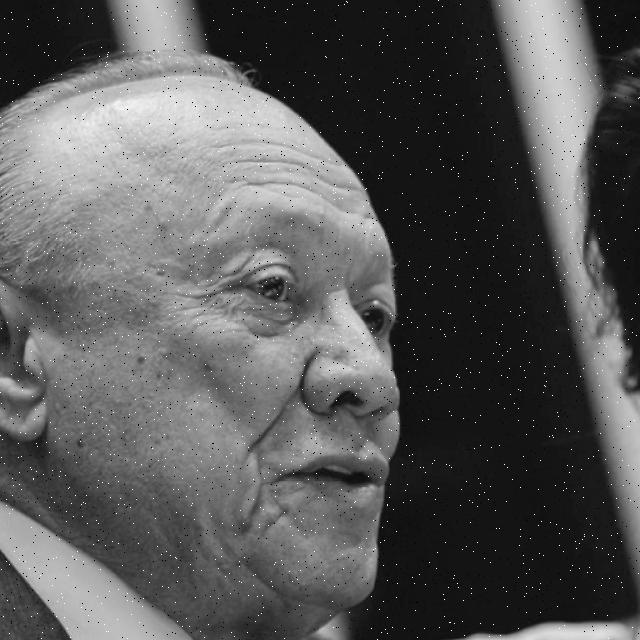puffy_eyes: (241, 308, 292, 334)
